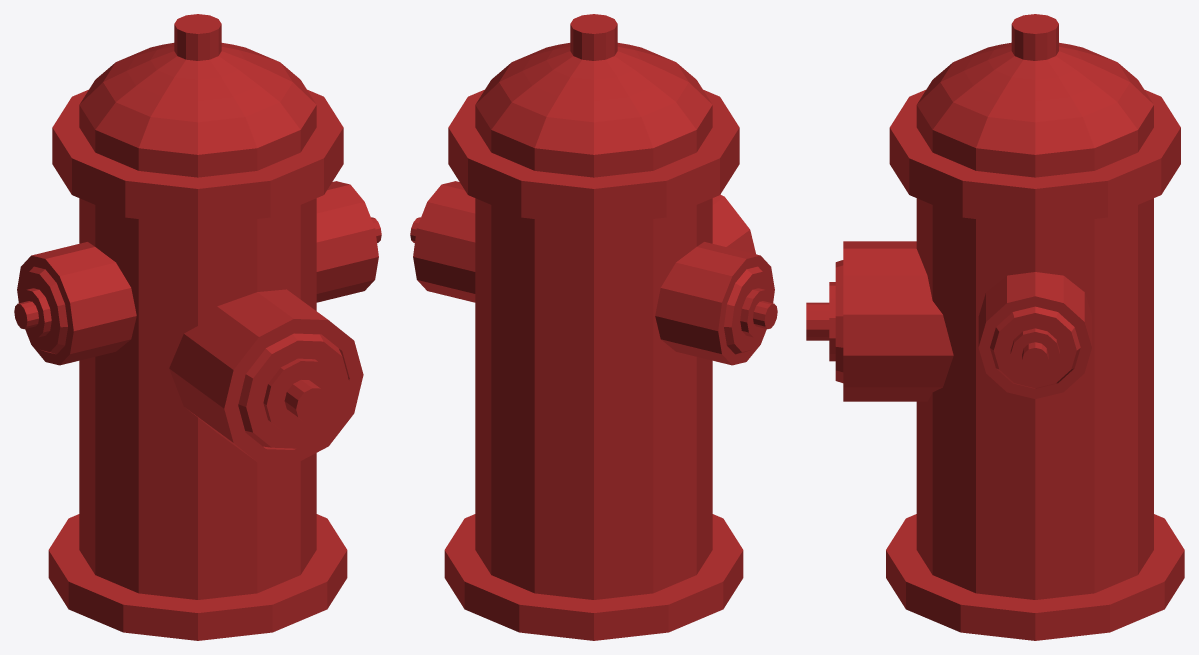
Rendered from Prop_FireHydrant.fbx.
3 renders of one model, left to right at view 1: azimuth 30°, elevation 25°; view 2: azimuth 150°, elevation 25°; view 3: azimuth 270°, elevation 25°, orthographic.
Parts seen in each view (by area): view 1: Prop_FireHydrant; view 2: Prop_FireHydrant; view 3: Prop_FireHydrant.
Part boxes in pixels (x1,y1,x2,y2): Prop_FireHydrant: [14, 14, 381, 640]; Prop_FireHydrant: [410, 14, 777, 640]; Prop_FireHydrant: [806, 14, 1184, 640].
Size of the model in its own units: 59.32 by 88.61 by 54.88.
